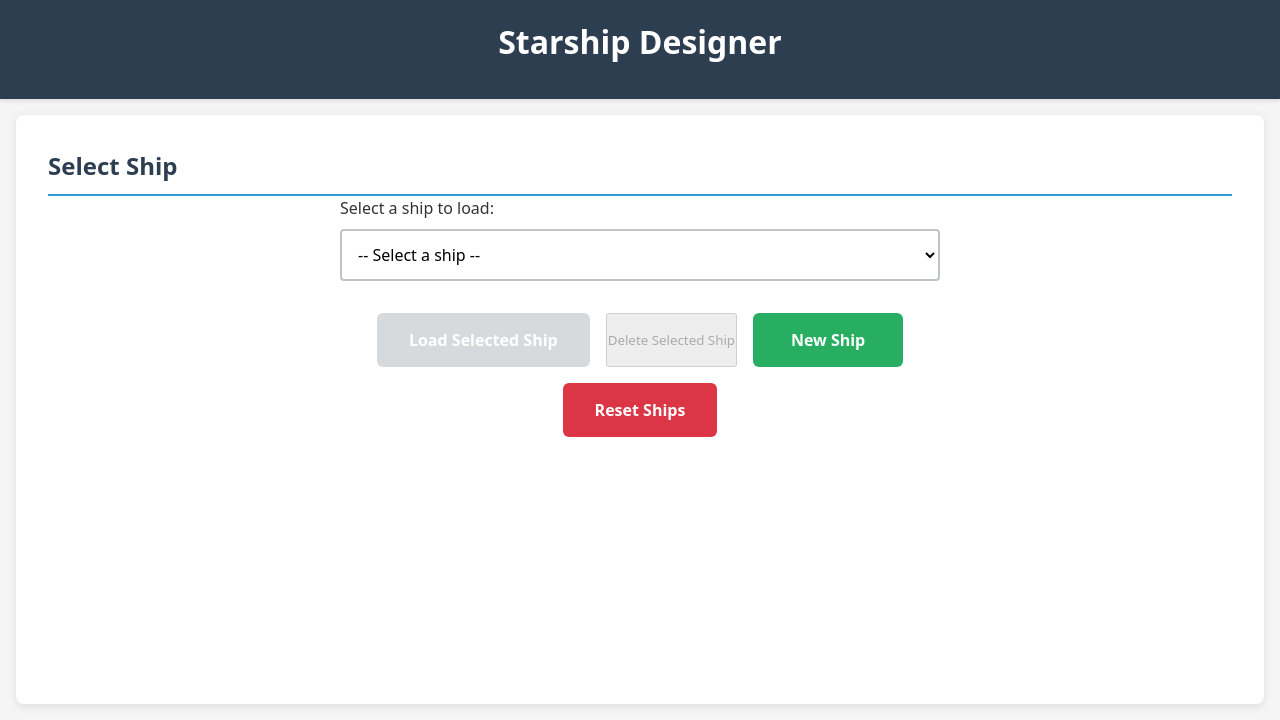
Test case: App › Back to Ship Select returns to Select Ship view
Click the button "New Ship": (828, 340) [753, 313, 903, 367]
(page scrolled)
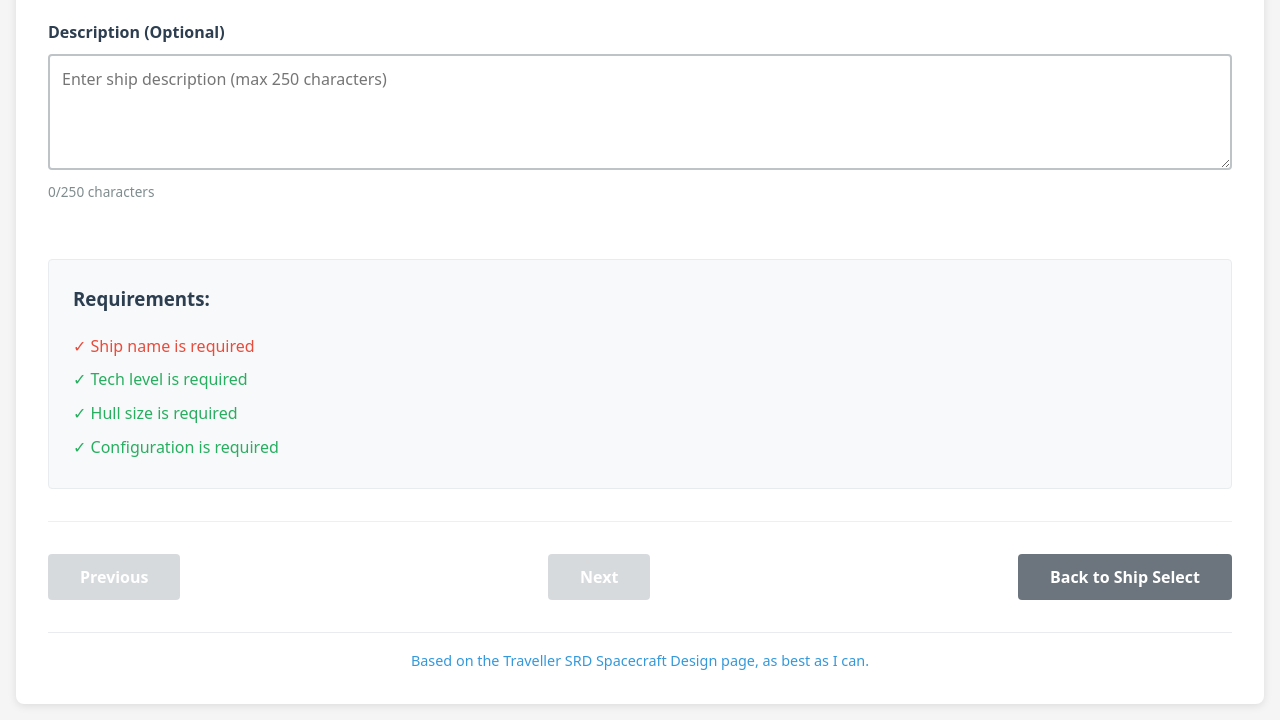
Click the button "Back to Ship Select": (1125, 577) [1018, 554, 1232, 600]
(page scrolled)
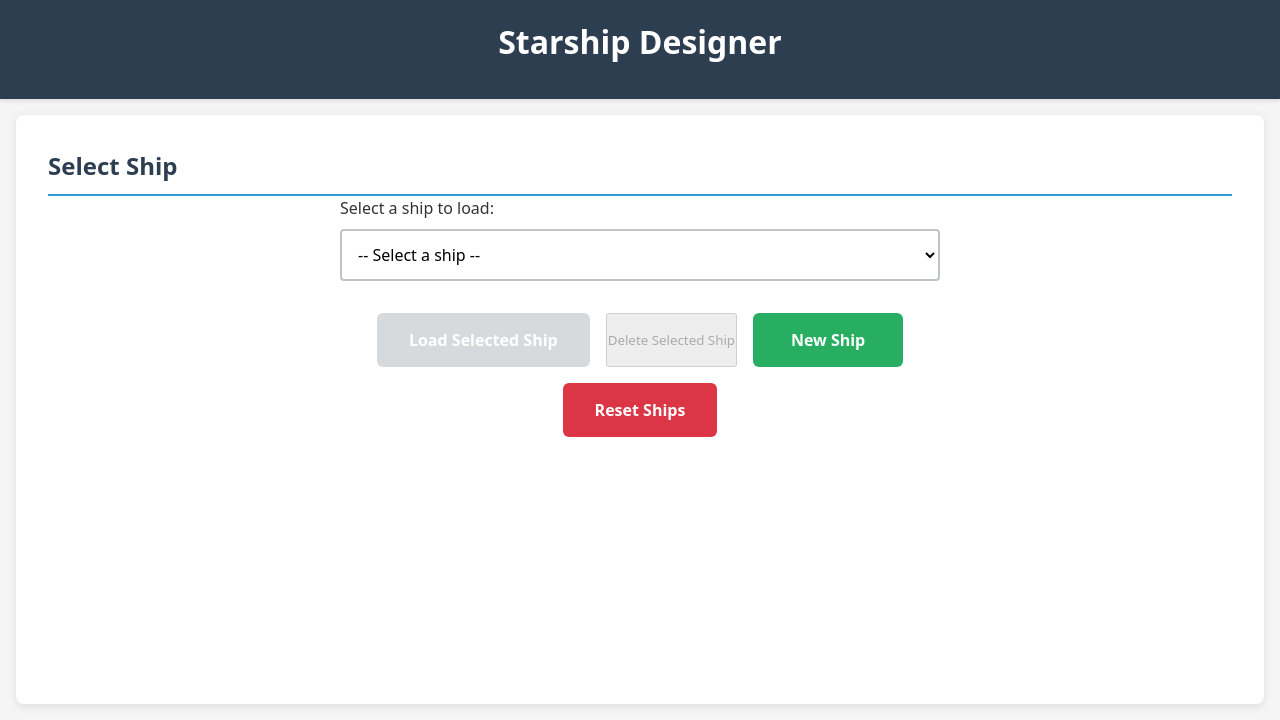
Expected: the heading "Select Ship" is shown, [48, 147, 1232, 196]
